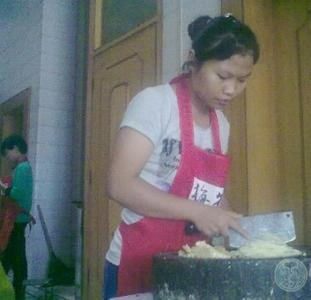person: (104, 13, 260, 300)
